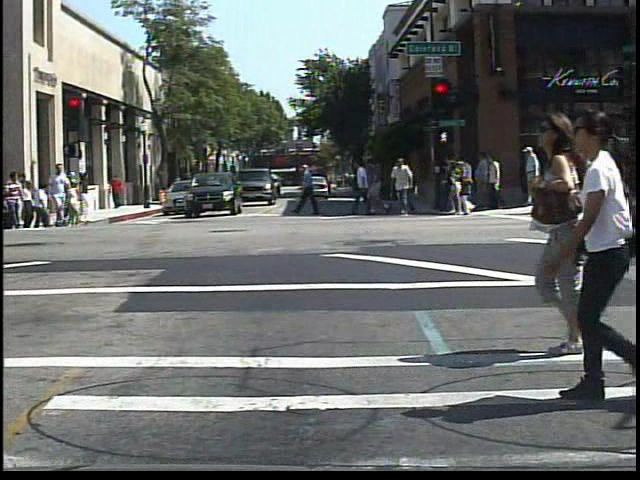person: (539, 106, 626, 406), (514, 112, 587, 353), (46, 162, 74, 230), (5, 166, 28, 232), (109, 174, 128, 211), (528, 147, 539, 205), (170, 169, 188, 200)
